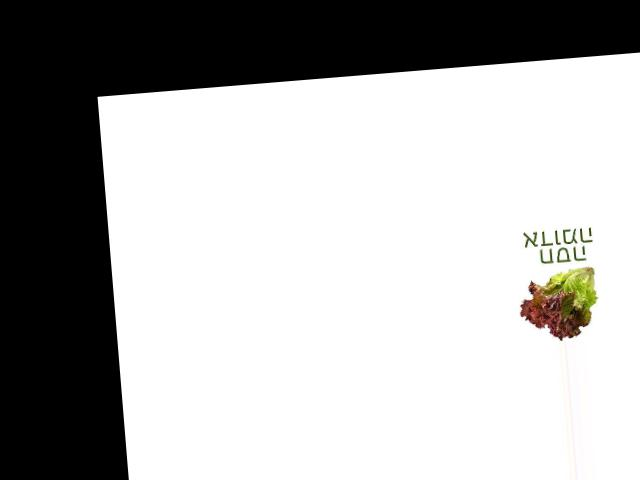lettuce: (515, 263, 608, 344)
